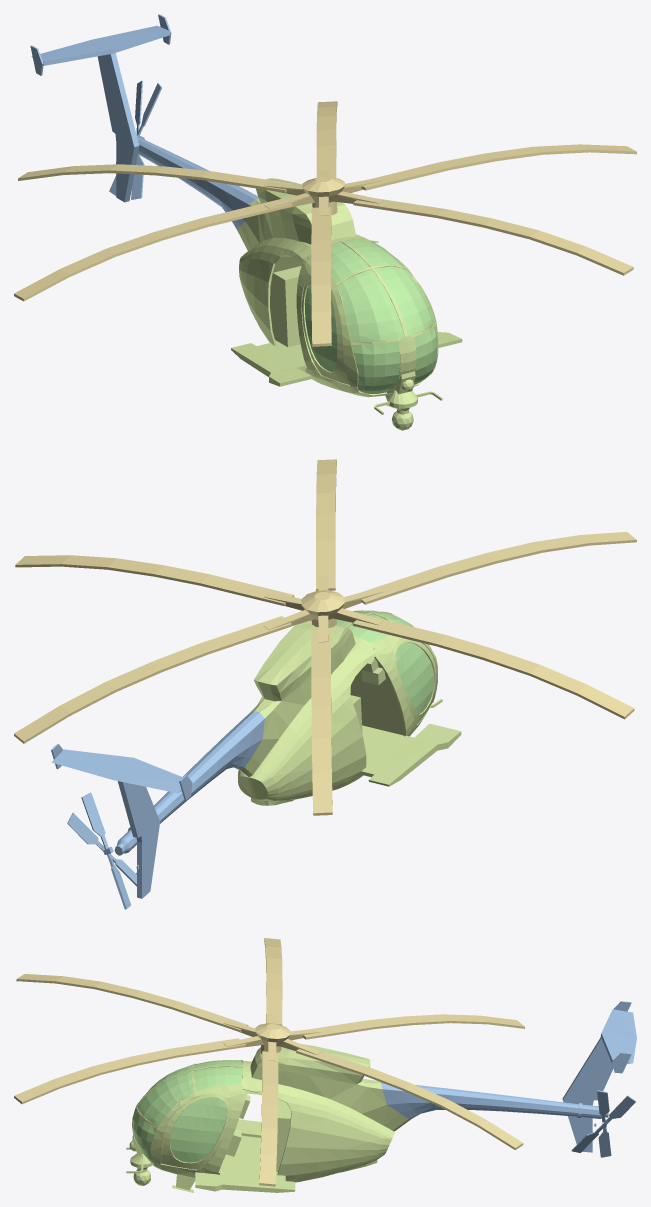
The model's file is air-rotary-littlebird.glb.
3 views of the same model, one above another, from view 1: azimuth 30°, elevation 25°; view 2: azimuth 150°, elevation 25°; view 3: azimuth 270°, elevation 25° (orthographic). The views are drawn at different scales.
Parts seen in each view (by area): view 1: CC_ROT_03_Main, CC_ROT_03_RotorBlades, CC_ROT_03_MainRotor, CC_ROT_03_RearRotor_Blades; view 2: CC_ROT_03_Main, CC_ROT_03_RotorBlades, CC_ROT_03_MainRotor, CC_ROT_03_RearRotor_Blades; view 3: CC_ROT_03_Main, CC_ROT_03_RotorBlades, CC_ROT_03_MainRotor, CC_ROT_03_RearRotor_Blades.
Boxes of the visible parts, bbox=[...] form: CC_ROT_03_Main: bbox=[30, 14, 462, 430]; CC_ROT_03_RotorBlades: bbox=[14, 101, 636, 346]; CC_ROT_03_MainRotor: bbox=[264, 170, 383, 216]; CC_ROT_03_RearRotor_Blades: bbox=[109, 80, 161, 199]; CC_ROT_03_Main: bbox=[51, 610, 461, 898]; CC_ROT_03_RotorBlades: bbox=[14, 459, 636, 815]; CC_ROT_03_MainRotor: bbox=[264, 575, 383, 642]; CC_ROT_03_RearRotor_Blades: bbox=[67, 792, 136, 909]; CC_ROT_03_Main: bbox=[126, 1001, 636, 1192]; CC_ROT_03_RotorBlades: bbox=[14, 938, 524, 1186]; CC_ROT_03_MainRotor: bbox=[223, 1014, 320, 1061]; CC_ROT_03_RearRotor_Blades: bbox=[571, 1090, 636, 1157].
Bounding box in the file's own units: 8.35 × 2.53 × 8.95.
